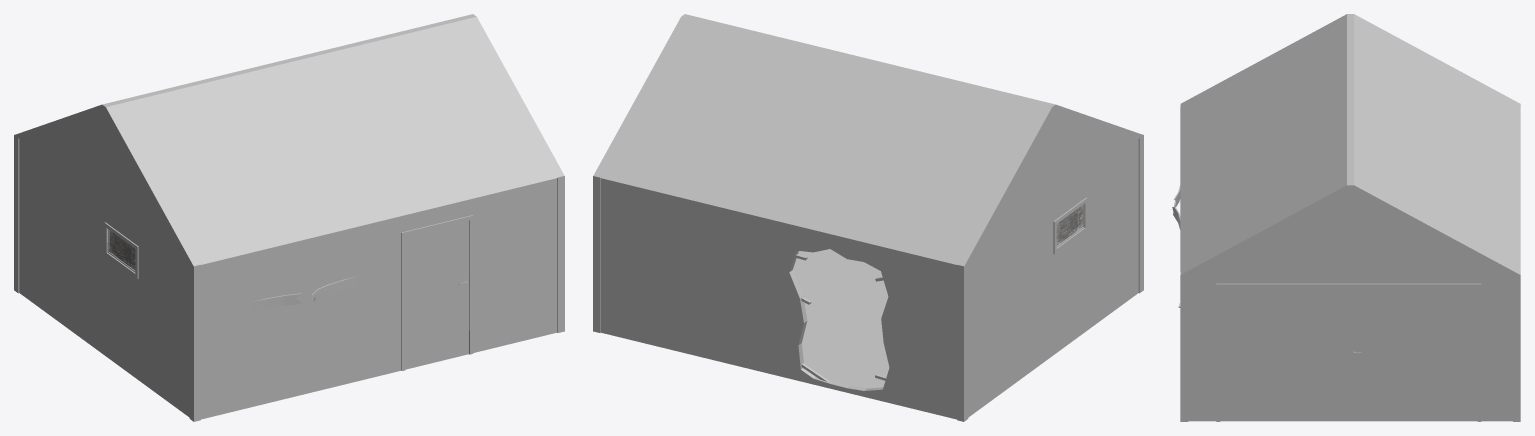
The model's file is Suburbs_garage3.fbx.
3 views of the same model, side by side, from view 1: azimuth 30°, elevation 25°; view 2: azimuth 150°, elevation 25°; view 3: azimuth 270°, elevation 25° (orthographic). The views are drawn at different scales.
Visible parts, largest first — view 1: Plane.500, Cube.1359, Cube.063, Plane.573; view 2: Cube.1359, Plane.500, Plane.573; view 3: Plane.500, Cube.1804, Cube.055, Cube.1359.
Part boxes in pixels (x1,y1,x2,y2): Plane.500: [14, 14, 564, 265]; Cube.1359: [14, 134, 564, 421]; Cube.063: [405, 220, 468, 368]; Plane.573: [109, 230, 135, 270]; Cube.1359: [593, 134, 1143, 421]; Plane.500: [593, 14, 1142, 266]; Plane.573: [1056, 205, 1082, 245]; Plane.500: [1180, 14, 1520, 274]; Cube.1804: [1349, 287, 1477, 421]; Cube.055: [1220, 287, 1348, 421]; Cube.1359: [1172, 103, 1520, 421].
Bounding box in the file's own units: 626 × 402 × 537.
